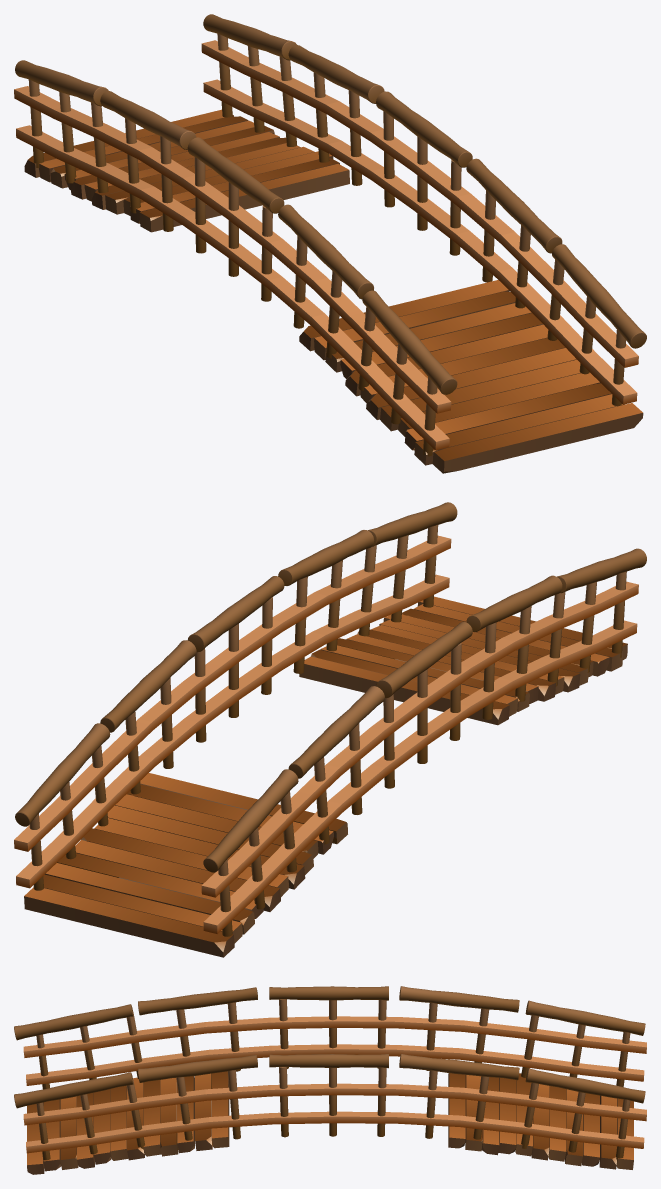
File: SM_HolzbrückeBroken.fbx
The picture shows the model from 3 angles, top to bottom: view 1: azimuth 30°, elevation 25°; view 2: azimuth 150°, elevation 25°; view 3: azimuth 270°, elevation 25°; orthographic projection. The views are drawn at different scales.
Visible parts, largest first — view 1: SM_HolzbrückeBroken.001; view 2: SM_HolzbrückeBroken.001; view 3: SM_HolzbrückeBroken.001.
Boxes of the visible parts, x1=… form: SM_HolzbrückeBroken.001: x1=14, y1=14, x2=646, y2=473; SM_HolzbrückeBroken.001: x1=14, y1=502, x2=646, y2=957; SM_HolzbrückeBroken.001: x1=14, y1=986, x2=646, y2=1174.
Bounding box in the file's own units: 385 × 276 × 1365.
